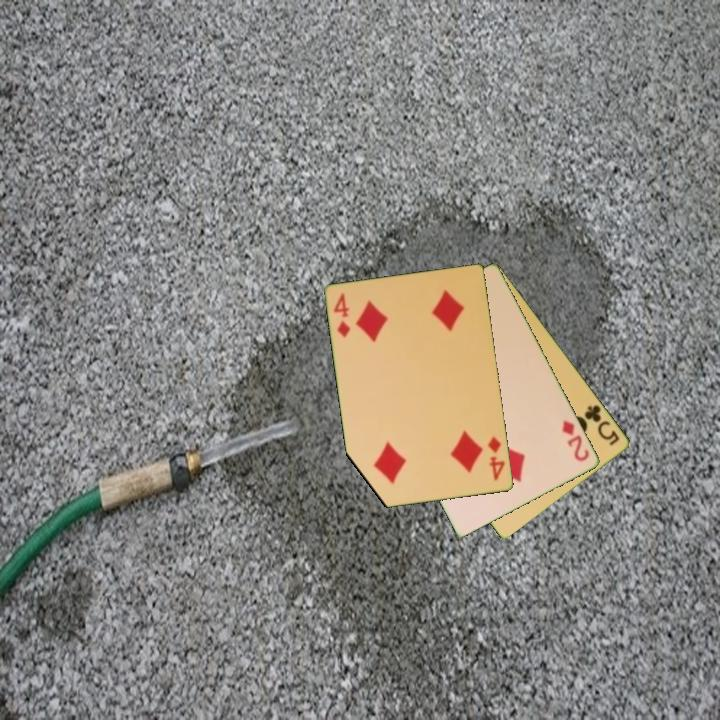2d: (559, 417, 592, 464)
4d: (485, 433, 508, 484), (330, 290, 353, 340)
5c: (581, 401, 623, 449)
